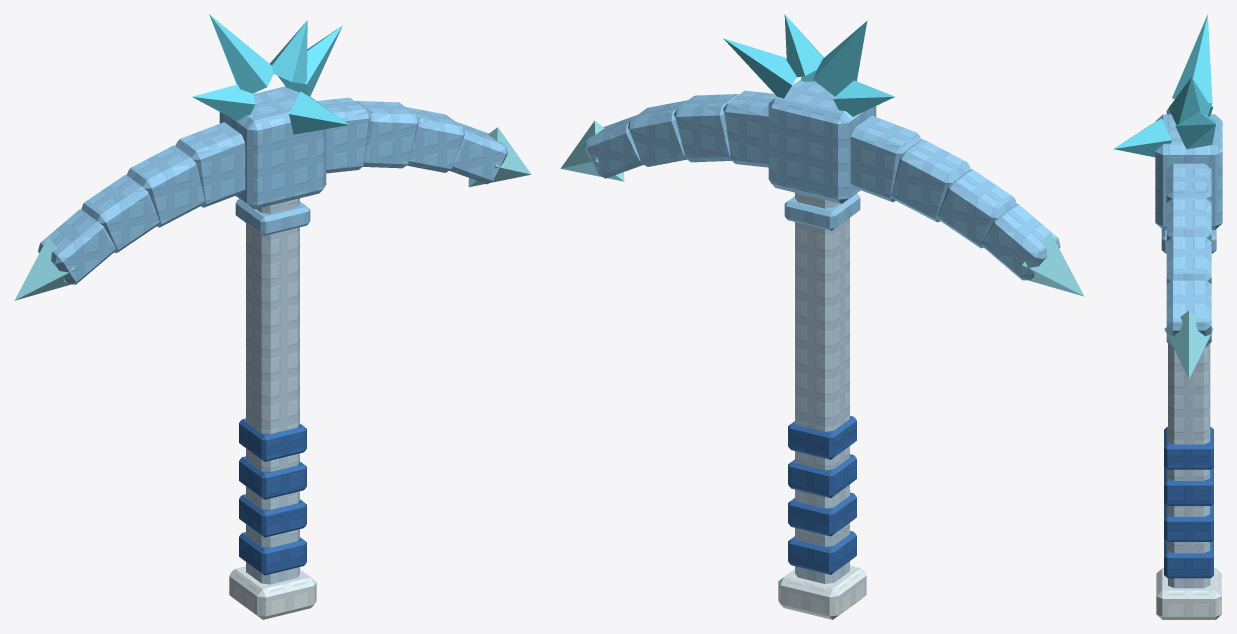
Rendered from outil_12_pioche_de_glace.glb.
3 renders of one model, left to right at view 1: azimuth 30°, elevation 25°; view 2: azimuth 150°, elevation 25°; view 3: azimuth 270°, elevation 25°, orthographic. The views are drawn at different scales.
Visible parts, largest first — view 1: outil_12_pioche_de_glace; view 2: outil_12_pioche_de_glace; view 3: outil_12_pioche_de_glace.
Boxes of the visible parts, x1,y1,x2,y2 form: outil_12_pioche_de_glace: [14, 14, 531, 619]; outil_12_pioche_de_glace: [560, 14, 1084, 619]; outil_12_pioche_de_glace: [1114, 14, 1222, 619].
Bounding box in the file's own units: 4.57 × 5.04 × 0.8785.
1 material, 1 textured.
